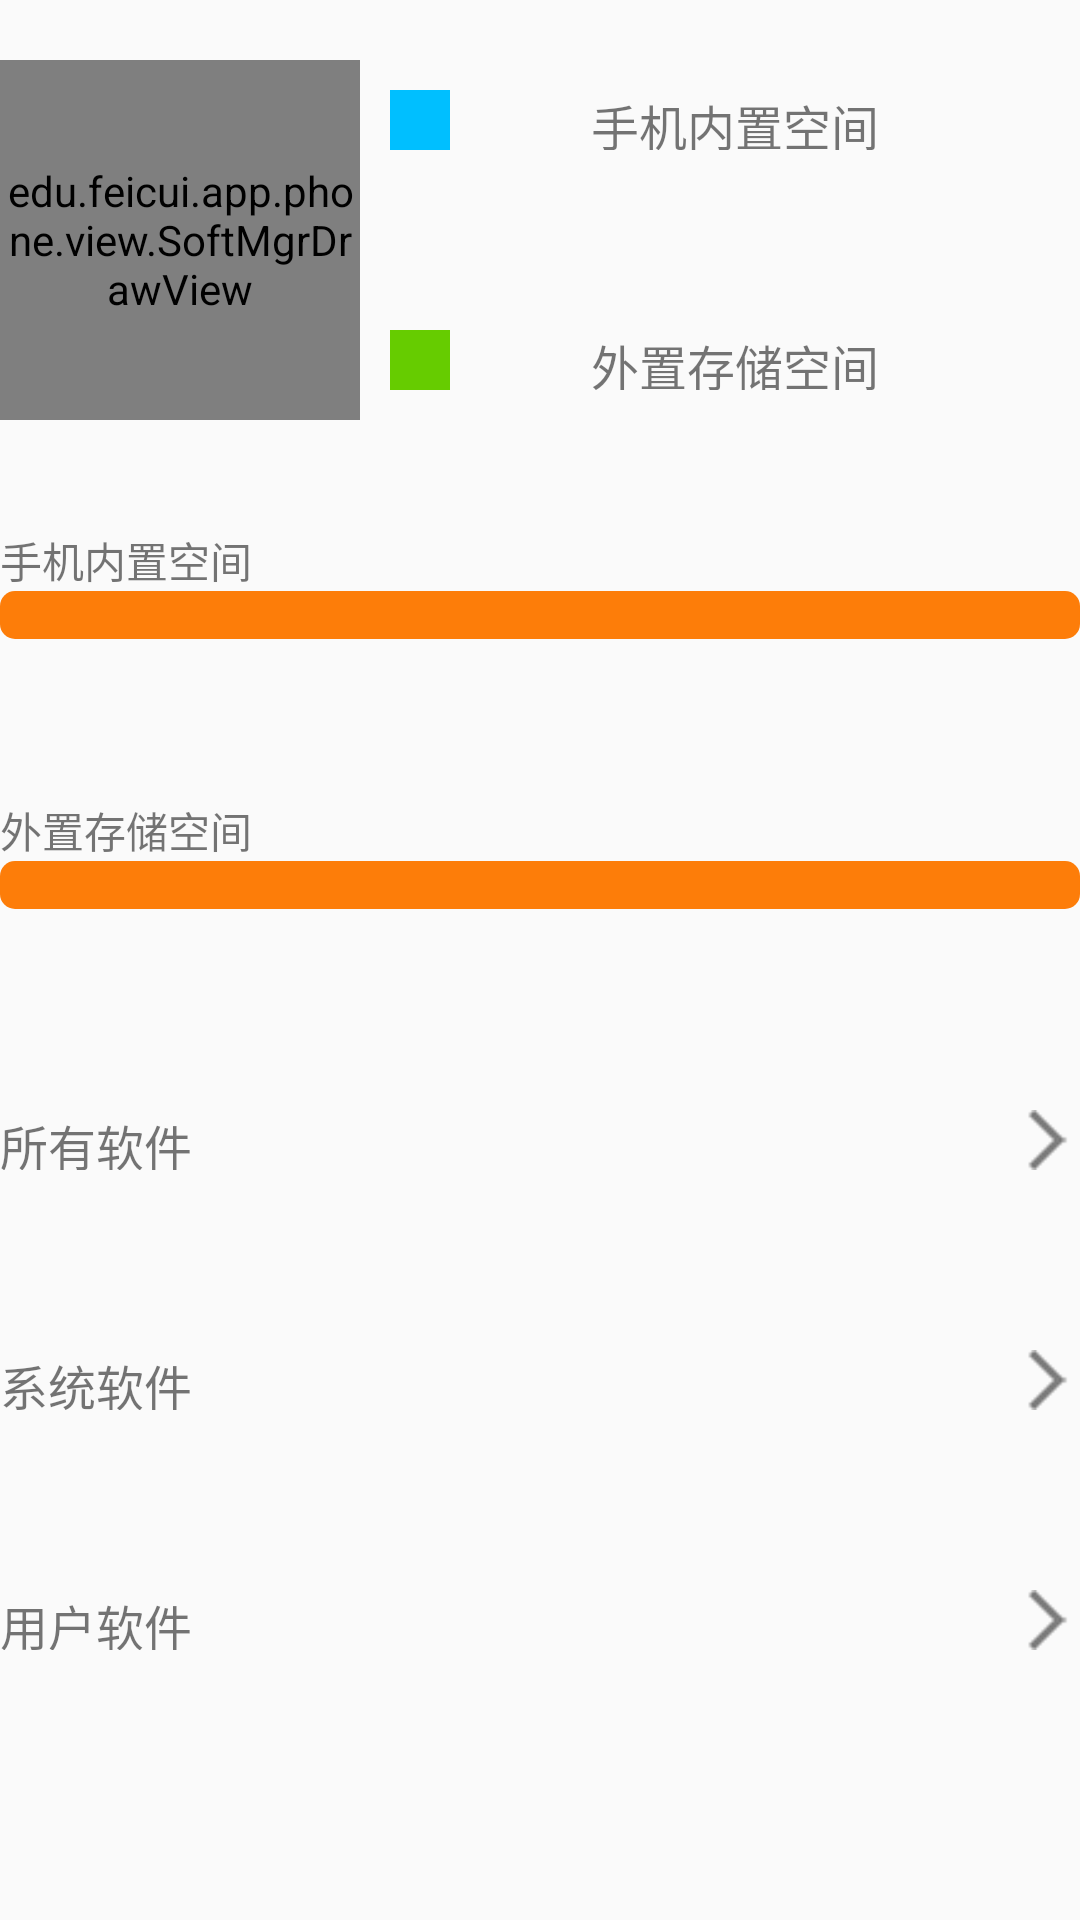

Icons on this 1080*1920 Android screen, each with its box as (x1, y1, x2, y2):
arrows right: (1029, 1110, 1067, 1170), (1029, 1350, 1067, 1410), (1029, 1590, 1067, 1650)
